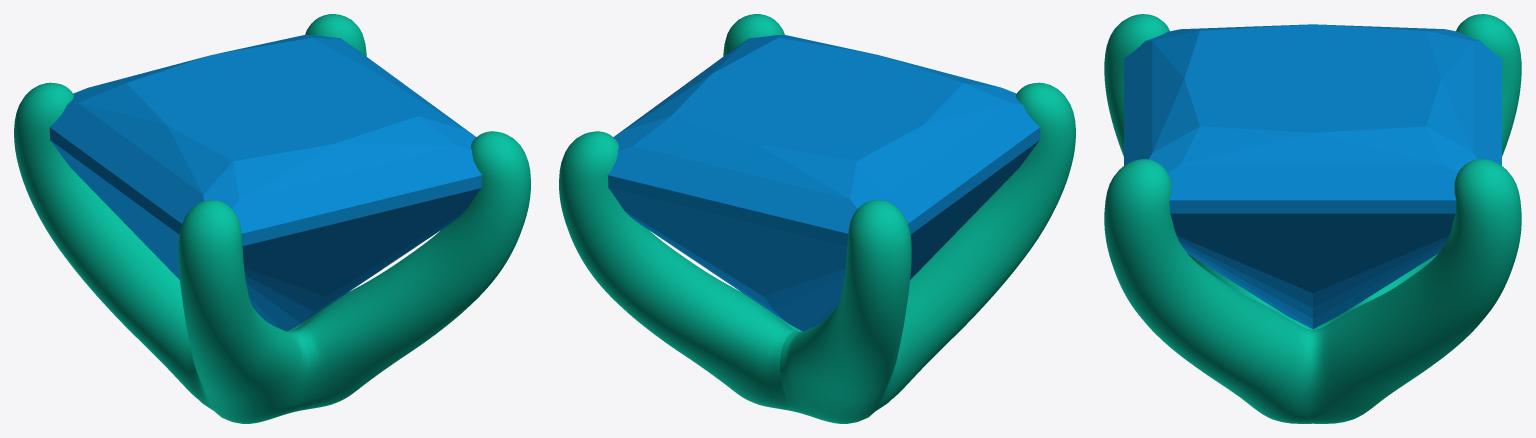
Rendered from princess.glb.
3 renders of one model, left to right at view 1: azimuth 30°, elevation 25°; view 2: azimuth 150°, elevation 25°; view 3: azimuth 270°, elevation 25°, orthographic. The views are drawn at different scales.
Parts seen in each view (by area): view 1: DIA-PRNHD-B1-1, MTL-HEAD-1 (×4); view 2: DIA-PRNHD-B1-1, MTL-HEAD-1 (×4); view 3: DIA-PRNHD-B1-1, MTL-HEAD-1 (×4).
Boxes of the visible parts, left/top/right/bottom form: DIA-PRNHD-B1-1: left=49, top=34, right=482, bottom=331; MTL-HEAD-1 (×4): left=14, top=14, right=530, bottom=423; DIA-PRNHD-B1-1: left=607, top=34, right=1040, bottom=331; MTL-HEAD-1 (×4): left=559, top=14, right=1075, bottom=423; DIA-PRNHD-B1-1: left=1124, top=24, right=1501, bottom=328; MTL-HEAD-1 (×4): left=1104, top=14, right=1521, bottom=423.
Bounding box in the file's own units: 7.67 × 6.42 × 7.62.
